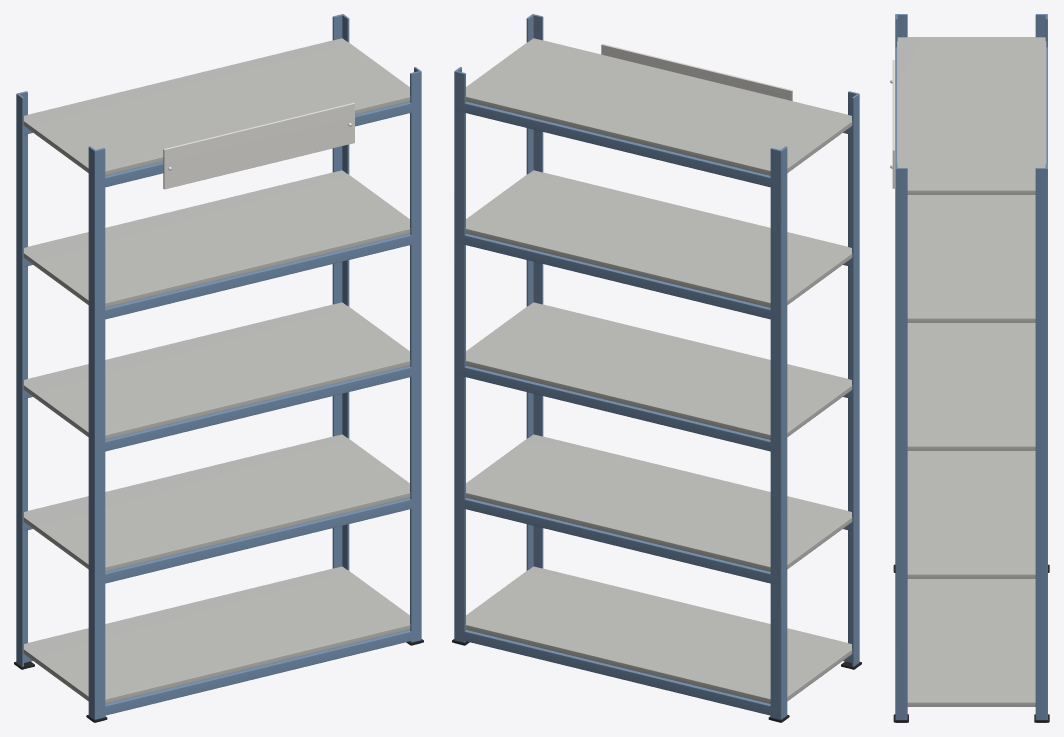
The model's file is industrial.workshop.shelf_standard.glb.
3 renders of one model, left to right at view 1: azimuth 30°, elevation 25°; view 2: azimuth 150°, elevation 25°; view 3: azimuth 270°, elevation 25°, orthographic. The views are drawn at different scales.
Parts seen in each view (by area): view 1: main__paint_ccc, main__paint_79b, main__paint_eee; view 2: main__paint_ccc, main__paint_79b, main__paint_eee; view 3: main__paint_ccc, main__paint_79b, main__paint_eee.
Part boxes in pixels (left/top/right/bottom): main__paint_ccc: left=23, top=38, right=410, bottom=703; main__paint_79b: left=16, top=14, right=421, bottom=722; main__paint_eee: left=163, top=102, right=354, bottom=189; main__paint_ccc: left=465, top=38, right=852, bottom=703; main__paint_79b: left=454, top=14, right=859, bottom=722; main__paint_eee: left=601, top=44, right=792, bottom=101; main__paint_ccc: left=897, top=37, right=1046, bottom=706; main__paint_79b: left=895, top=14, right=1047, bottom=722; main__paint_eee: left=892, top=60, right=894, bottom=188.
Size of the model in its own units: 1.21 by 2 by 0.521.
